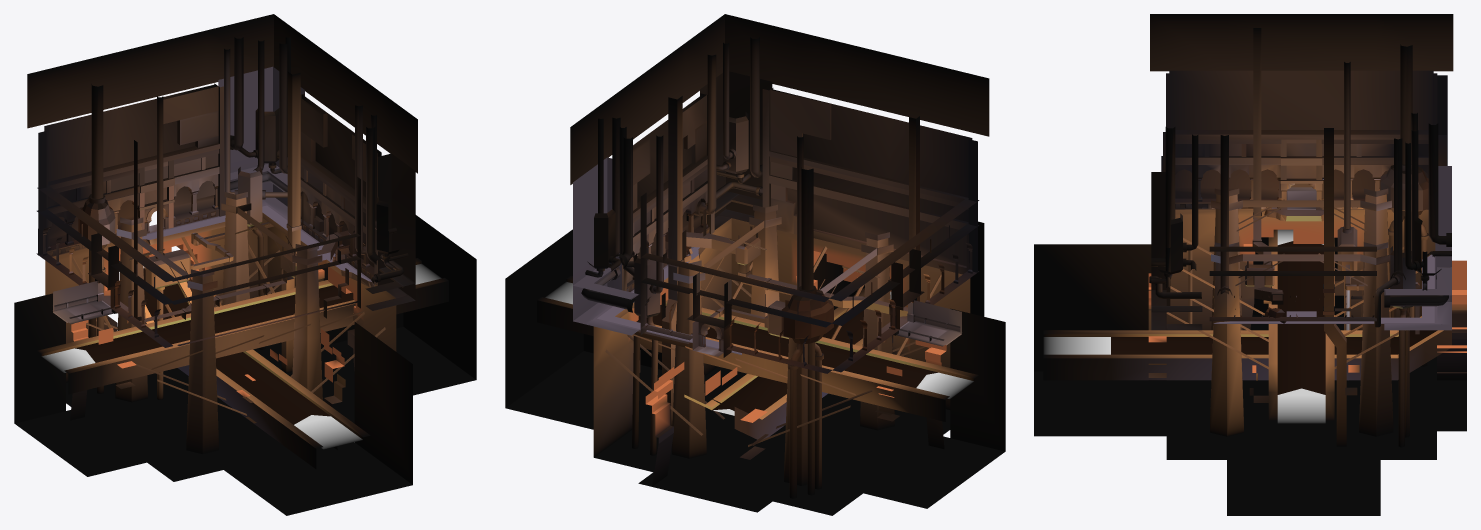
File: 08Lava.gltf
3 renders of one model, left to right at view 1: azimuth 30°, elevation 25°; view 2: azimuth 150°, elevation 25°; view 3: azimuth 270°, elevation 25°, orthographic. The views are drawn at different scales.
Visible parts, largest first — view 1: stg031_o26_Mesh_0040, stg031_o26_Mesh_0023, stg031_o26_Mesh_0035, stg031_o26_Mesh_0011, stg031_o26_Mesh_0028, stg031_o26_Mesh_0036, stg031_o26_Mesh_0017, stg031_o26_Mesh_0027, stg031_g26_Mesh_0000, stg031_o26_Mesh_0044, stg031_o26_Mesh_0006, stg031_steelflow_26_Mesh_0001 (+15 smaller); view 2: stg031_o26_Mesh_0040, stg031_o26_Mesh_0023, stg031_o26_Mesh_0011, stg031_o26_Mesh_0017, stg031_o26_Mesh_0036, stg031_o26_Mesh_0028, stg031_o26_Mesh_0035, stg031_o26_Mesh_0027, stg031_o26_Mesh_0044, stg031_g26_Mesh_0000, stg031_o26_Mesh_0006, stg031_o26_Mesh_0072 (+12 smaller); view 3: stg031_o26_Mesh_0040, stg031_o26_Mesh_0023, stg031_o26_Mesh_0011, stg031_o26_Mesh_0027, stg031_o26_Mesh_0035, stg031_o26_Mesh_0017, stg031_o26_Mesh_0036, stg031_g26_Mesh_0000, stg031_o26_Mesh_0028, stg031_o26_Mesh_0006, stg031_steelflow_26_Mesh_0001, stg031_o26_Mesh_0018 (+13 smaller).
Part boxes in pixels (x1,y1,x2,y2): stg031_o26_Mesh_0040: (14,215,476,515); stg031_o26_Mesh_0023: (27,14,417,454); stg031_o26_Mesh_0035: (37,164,448,468); stg031_o26_Mesh_0011: (72,37,408,415); stg031_o26_Mesh_0028: (36,128,374,347); stg031_o26_Mesh_0036: (54,71,399,372); stg031_o26_Mesh_0017: (163,83,391,330); stg031_o26_Mesh_0027: (44,84,381,197); stg031_g26_Mesh_0000: (75,268,353,424); stg031_o26_Mesh_0044: (52,66,415,323); stg031_o26_Mesh_0006: (68,101,413,318); stg031_steelflow_26_Mesh_0001: (41,263,441,449); stg031_o26_Mesh_0040: (505,218,1005,515); stg031_o26_Mesh_0023: (570,14,989,485); stg031_o26_Mesh_0011: (581,37,941,498); stg031_o26_Mesh_0017: (607,88,831,458); stg031_o26_Mesh_0036: (587,96,960,425); stg031_o26_Mesh_0028: (626,137,979,373); stg031_o26_Mesh_0035: (537,191,978,439); stg031_o26_Mesh_0027: (633,89,966,202); stg031_o26_Mesh_0044: (573,71,962,346); stg031_g26_Mesh_0000: (638,305,937,413); stg031_o26_Mesh_0006: (575,124,945,340); stg031_o26_Mesh_0072: (787,188,966,266); stg031_o26_Mesh_0040: (1034,209,1466,515); stg031_o26_Mesh_0023: (1150,14,1453,436); stg031_o26_Mesh_0011: (1149,44,1451,447); stg031_o26_Mesh_0027: (1169,70,1433,129); stg031_o26_Mesh_0035: (1043,191,1451,420); stg031_o26_Mesh_0017: (1151,166,1451,436); stg031_o26_Mesh_0036: (1159,28,1441,446); stg031_g26_Mesh_0000: (1111,241,1437,394); stg031_o26_Mesh_0028: (1161,73,1447,321); stg031_o26_Mesh_0006: (1153,191,1450,329); stg031_steelflow_26_Mesh_0001: (1043,229,1325,423); stg031_o26_Mesh_0018: (1175,169,1428,187).
Bounding box in the file's own units: 158 × 120 × 144.
